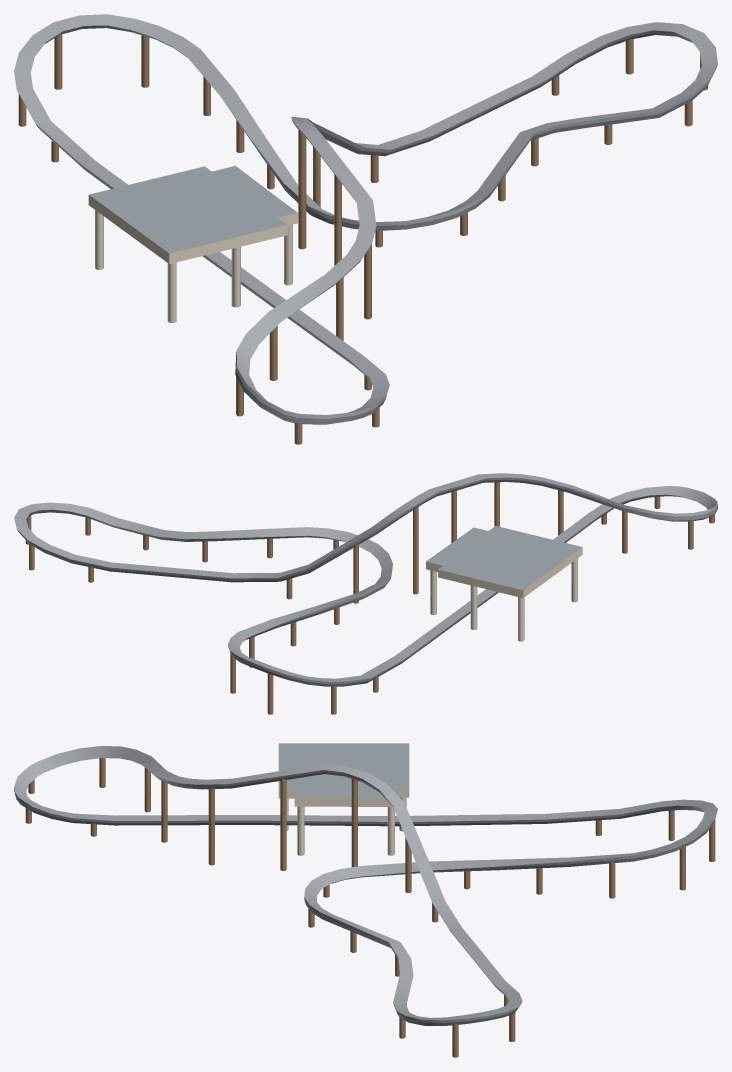
3 renders of one model, top to bottom at view 1: azimuth 30°, elevation 25°; view 2: azimuth 150°, elevation 25°; view 3: azimuth 270°, elevation 25°, orthographic. The views are drawn at different scales.
Parts seen in each view (by area): view 1: snoopys-racing-railway-carowinds; view 2: snoopys-racing-railway-carowinds; view 3: snoopys-racing-railway-carowinds.
Boxes of the visible parts, left/top/right/bottom form: snoopys-racing-railway-carowinds: left=14, top=14, right=717, bottom=444; snoopys-racing-railway-carowinds: left=14, top=473, right=717, bottom=714; snoopys-racing-railway-carowinds: left=14, top=743, right=717, bottom=1057.
Size of the model in its own units: 61.97 by 10.88 by 66.87.
